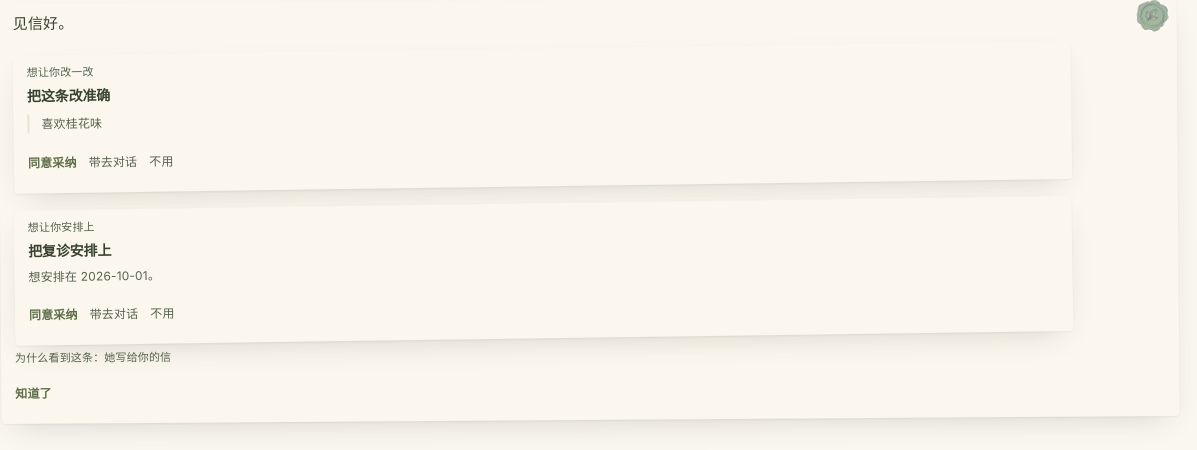
Test: 来信便签里的建议 › 「同意采纳」走 decide（accept），条目就地变成「已采纳」
This screenshot has width=1197, height=450.
Click the button "同意采纳" below "喜欢桂花味" at (52, 164), box [28, 141, 77, 186]
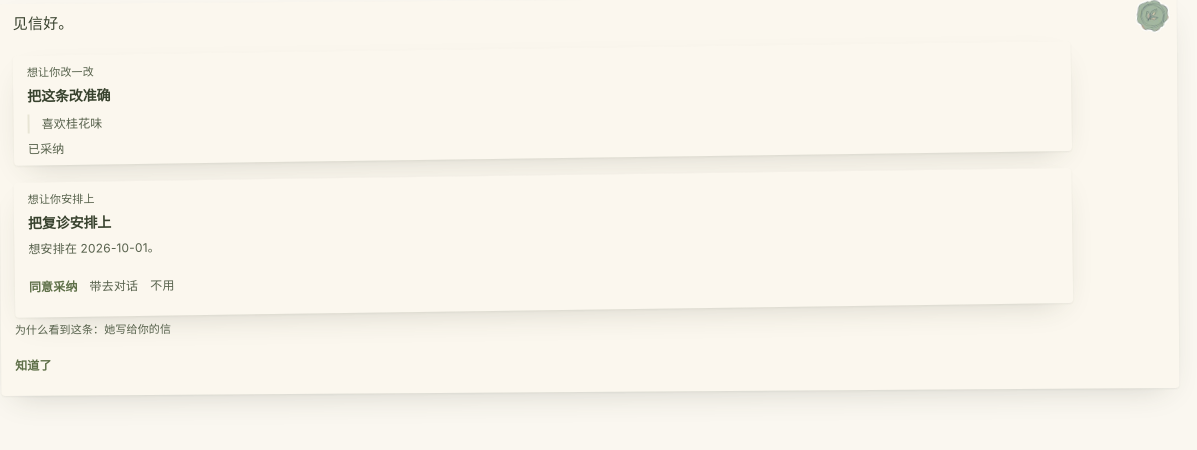
Now the text "已采纳" is shown, box [28, 142, 64, 157]
